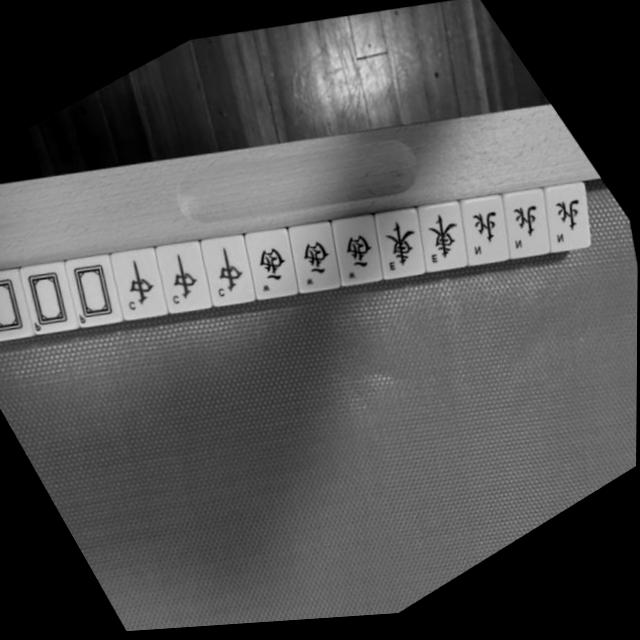hdr: (94, 223, 197, 337), (138, 219, 240, 331), (182, 212, 283, 323)
hdw: (49, 231, 151, 343), (6, 239, 106, 350), (0, 246, 60, 355)
hwe: (353, 187, 452, 297), (397, 183, 493, 289)
hwn: (439, 177, 535, 283), (521, 163, 616, 269), (481, 171, 574, 276)
hww: (225, 205, 326, 317), (269, 200, 368, 310), (311, 195, 410, 303)
